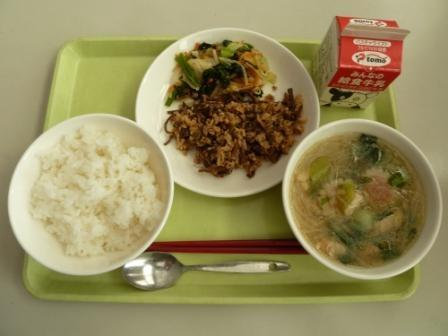Milk: (312, 14, 410, 116)
Rice: (7, 121, 171, 275)
Soups: (292, 130, 438, 276)
cooked food based on meat: (164, 87, 310, 180)
salad with sauce: (164, 40, 276, 106)
